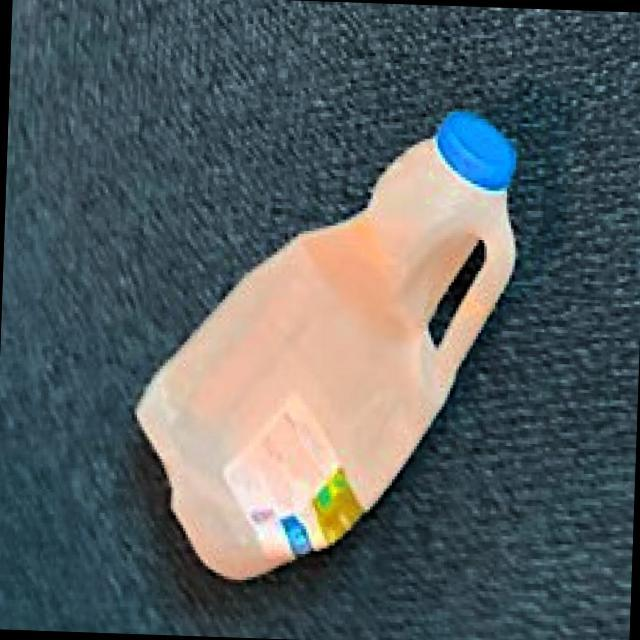HDPE Plastic: (130, 106, 522, 584)
